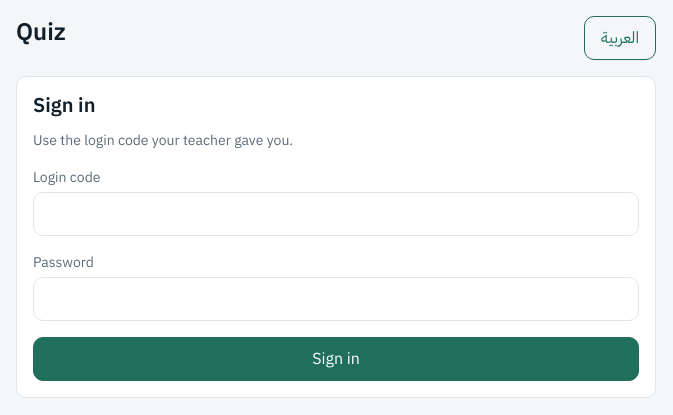
Test case: signing in › sends a signed-in student to their quizzes
The width and height of the screenshot is (673, 415).
Type "10A-001" into the field labelled "Login code" at (336, 214), box [33,192,639,236]
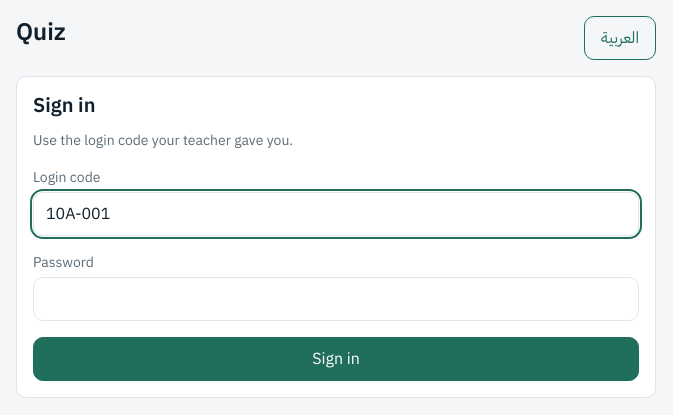
Type "pass1234" into the password field labelled "Password" at (336, 299), box [33,277,639,321]
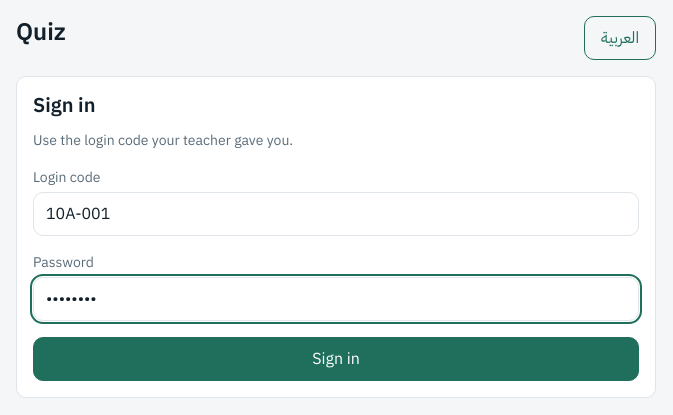
Click the button "Sign in" at (336, 359), box [33,337,639,381]
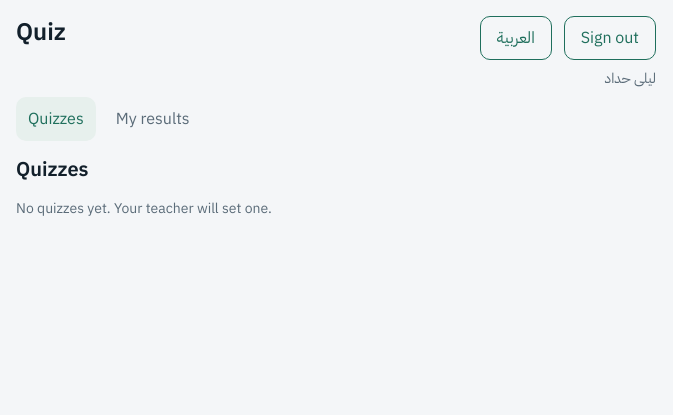
Expected: the heading "Quizzes" is shown, [16,154,88,184]
